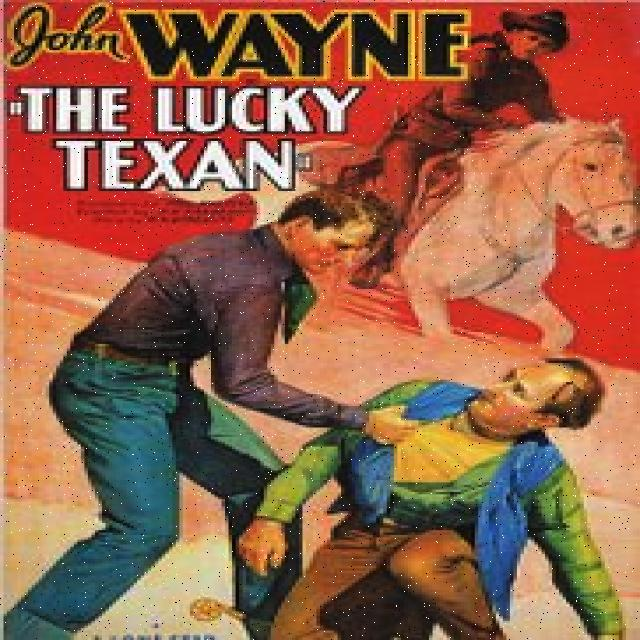movie-judul: (5, 84, 370, 192)
picture: (3, 193, 640, 639)
